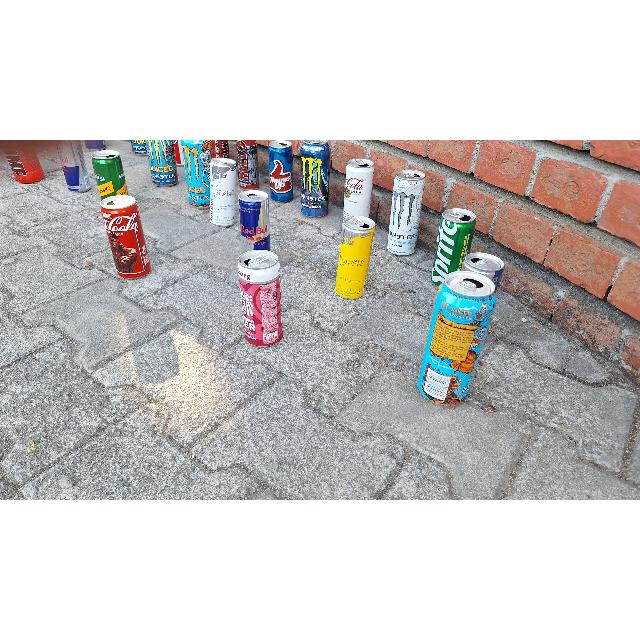Coca Cola - Marvel: (100, 197, 154, 279)
Coca Cola Plus: (341, 158, 375, 218)
Coolberg: (234, 248, 288, 348)
Hell Apple: (236, 140, 262, 190)
Hell Classic: (213, 140, 230, 158)
Monster Aussie Lemonade: (144, 140, 178, 186), (132, 140, 146, 154)
Monster LH44: (299, 140, 331, 216)
Monster Mango Loco: (414, 281, 498, 405), (180, 140, 208, 208)
Redbull: (235, 192, 275, 246), (54, 140, 90, 190)
Redbull Summer Edition: (209, 160, 237, 226)
Redbull Yellow Edition: (332, 220, 376, 298), (334, 216, 334, 218)
Schweppes: (92, 152, 130, 194)
Sprite: (432, 213, 478, 277)
Thums Up: (266, 140, 296, 202)
White Monster: (384, 171, 426, 257)
